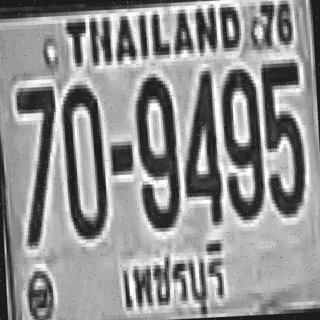N00: (61, 82, 108, 238)
N04: (179, 67, 224, 227)
N05: (259, 59, 308, 219)
N07: (15, 86, 62, 246)
N09: (132, 73, 182, 233), (219, 64, 266, 223)
P44: (114, 235, 230, 320)
